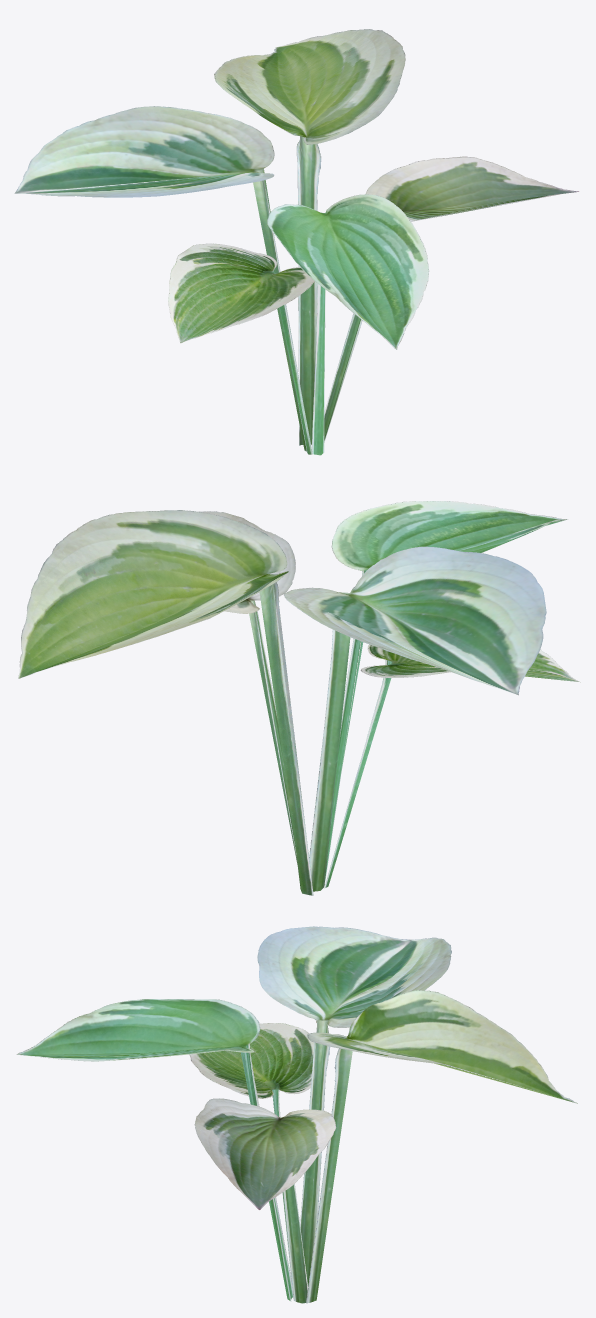
File: plant_small_wg_00A.fbx
3 renders of one model, top to bottom at view 1: azimuth 30°, elevation 25°; view 2: azimuth 150°, elevation 25°; view 3: azimuth 270°, elevation 25°, orthographic. The views are drawn at different scales.
Visible parts, largest first — view 1: plant_small_wg_00A; view 2: plant_small_wg_00A; view 3: plant_small_wg_00A.
Part boxes in pixels (x1,y1,x2,y2): plant_small_wg_00A: [14, 29, 578, 455]; plant_small_wg_00A: [18, 501, 580, 895]; plant_small_wg_00A: [16, 926, 577, 1303].
Bounding box in the file's own units: 57.19 × 37.32 × 62.5.
1 material, 1 textured.
